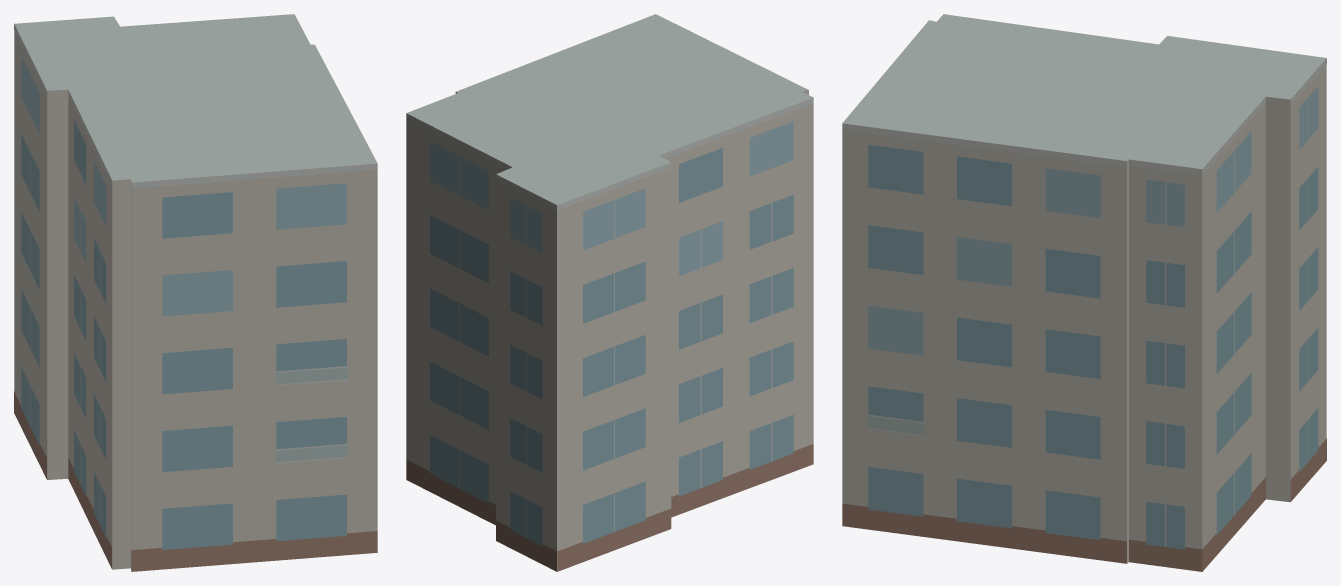
File: survey-upis-32664818.glb
3 renders of one model, left to right at view 1: azimuth 30°, elevation 25°; view 2: azimuth 150°, elevation 25°; view 3: azimuth 270°, elevation 25°, orthographic. The views are drawn at different scales.
Visible parts, largest first — view 1: survey-upis-32664818.tmp; view 2: survey-upis-32664818.tmp; view 3: survey-upis-32664818.tmp.
Part boxes in pixels (<box>): survey-upis-32664818.tmp: <box>14,14,377,571</box>; survey-upis-32664818.tmp: <box>406,14,813,571</box>; survey-upis-32664818.tmp: <box>842,14,1326,571</box>.
Bounding box in the file's own units: 13.11 × 15.85 × 17.3.
